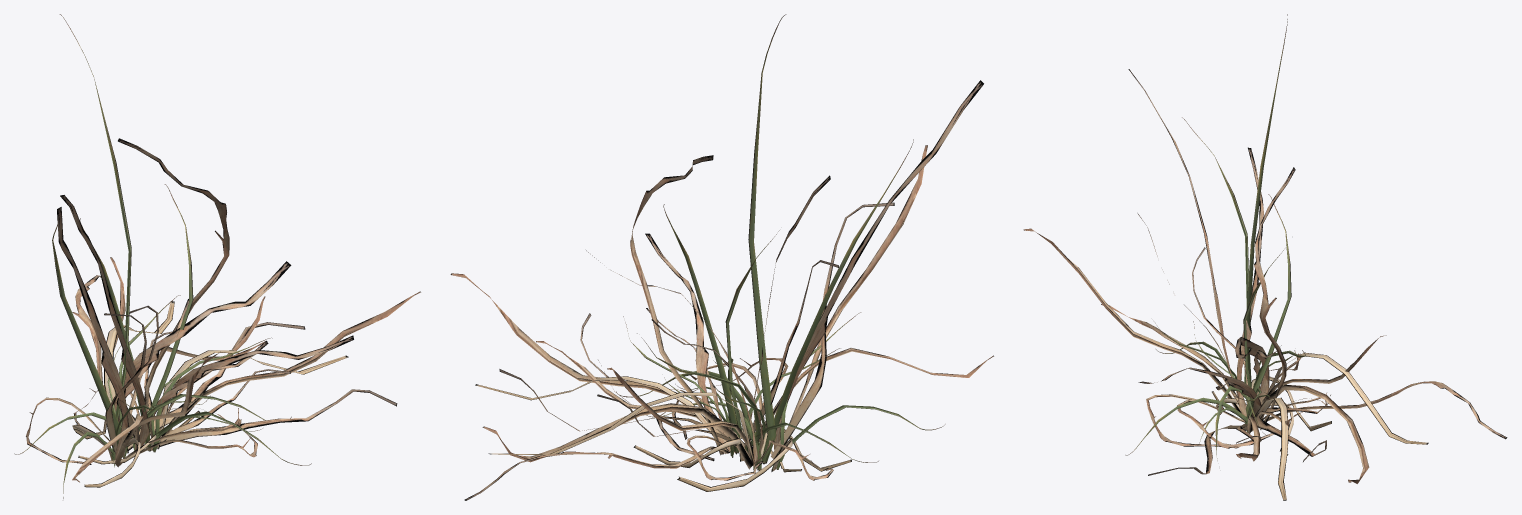
Rendered from grass_medium_02_b.glb.
3 renders of one model, left to right at view 1: azimuth 30°, elevation 25°; view 2: azimuth 150°, elevation 25°; view 3: azimuth 270°, elevation 25°, orthographic. The views are drawn at different scales.
Visible parts, largest first — view 1: grass_medium_02_b; view 2: grass_medium_02_b; view 3: grass_medium_02_b.
Part boxes in pixels (bbox=[...]): grass_medium_02_b: bbox=[14, 14, 420, 498]; grass_medium_02_b: bbox=[450, 14, 993, 500]; grass_medium_02_b: bbox=[1023, 14, 1507, 500].
Bounding box in the file's own units: 0.1791 × 0.1796 × 0.1993.
1 material, 1 textured.
